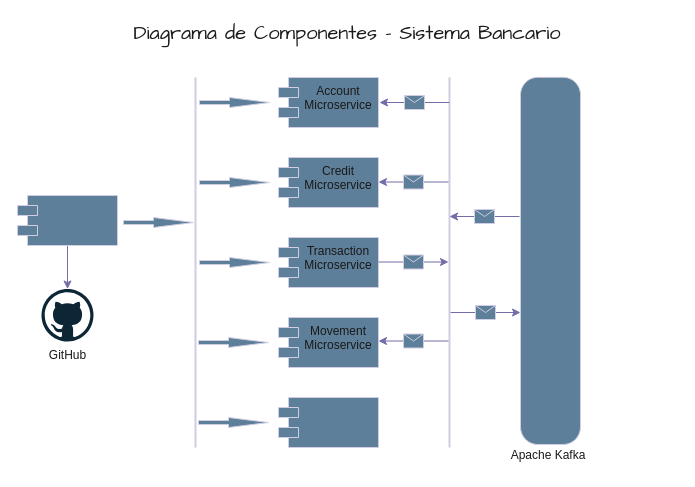
The diagram is 695 pixels wide and 487 high, and some of its shapes have lost their labels. Each missing label, with the box of its shape:
Client Microservice: (278, 396, 378, 448)
ConfigServer Microservice: (16, 194, 118, 246)
Event Bus (Publish / Subscribe): (520, 76, 580, 444)
